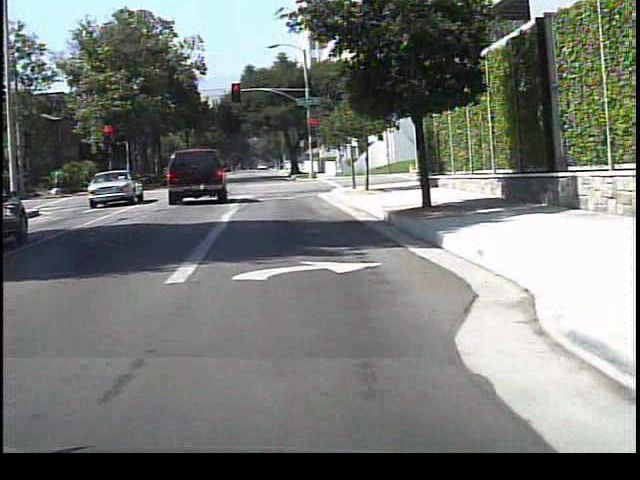person: (334, 147, 349, 175)
